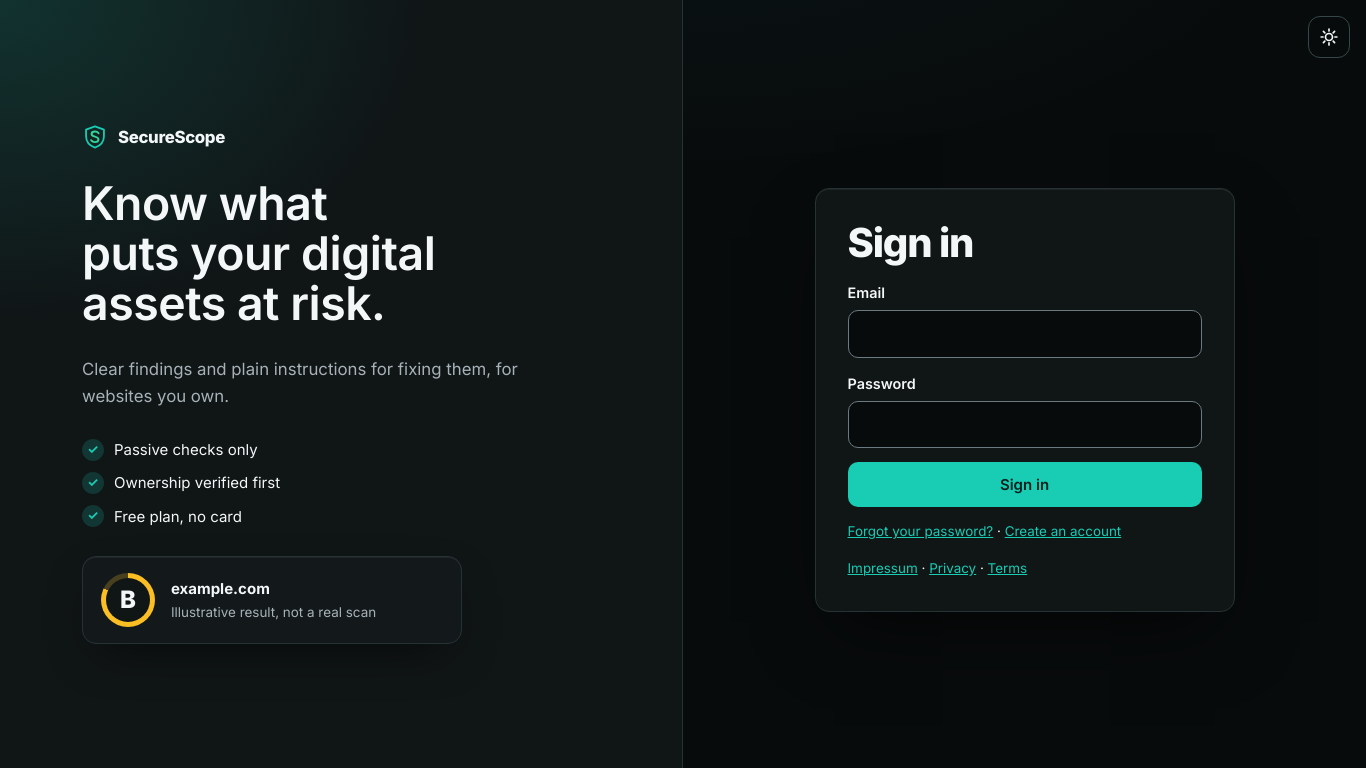
Test: Authentication › shows a generic server error on a failed login and does not enter the app
The width and height of the screenshot is (1366, 768).
Type "a@b.co" into the field labelled "Email".
click(1024, 334); type("a@b.co")  # box x1=848 y1=310 x2=1202 y2=358
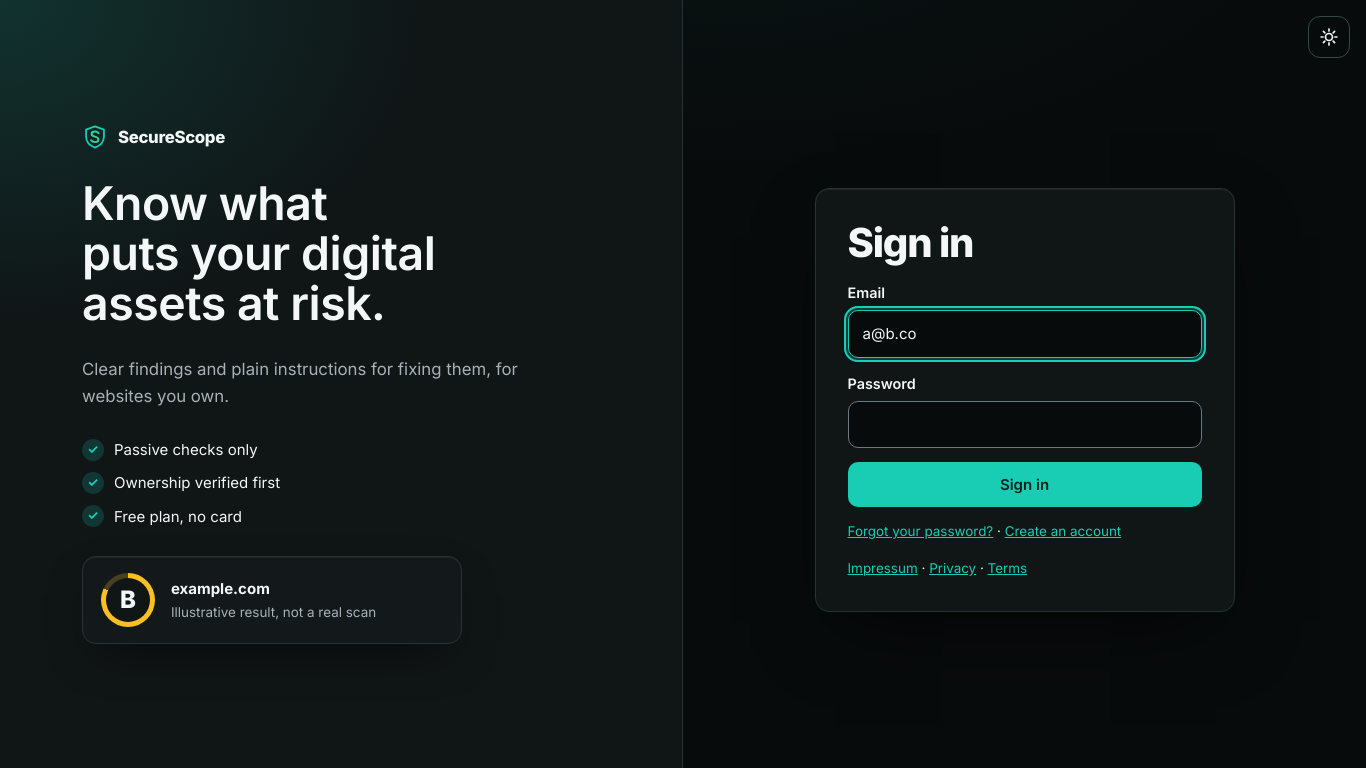
Type "wrong-password-123" into the password field labelled "Password".
click(1024, 425); type("wrong-password-123")  # box x1=848 y1=401 x2=1202 y2=448
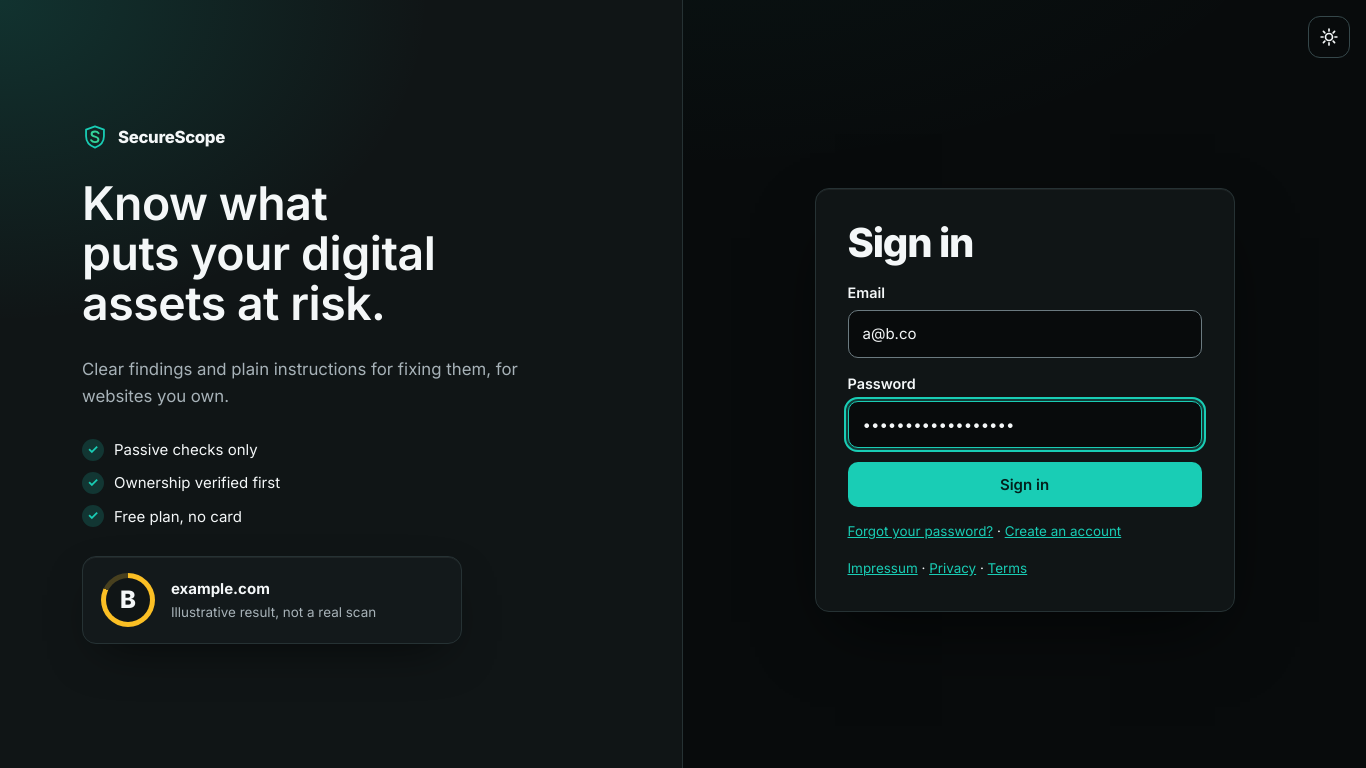
Click the button "Sign in".
click(1024, 485)  # box x1=848 y1=462 x2=1202 y2=507
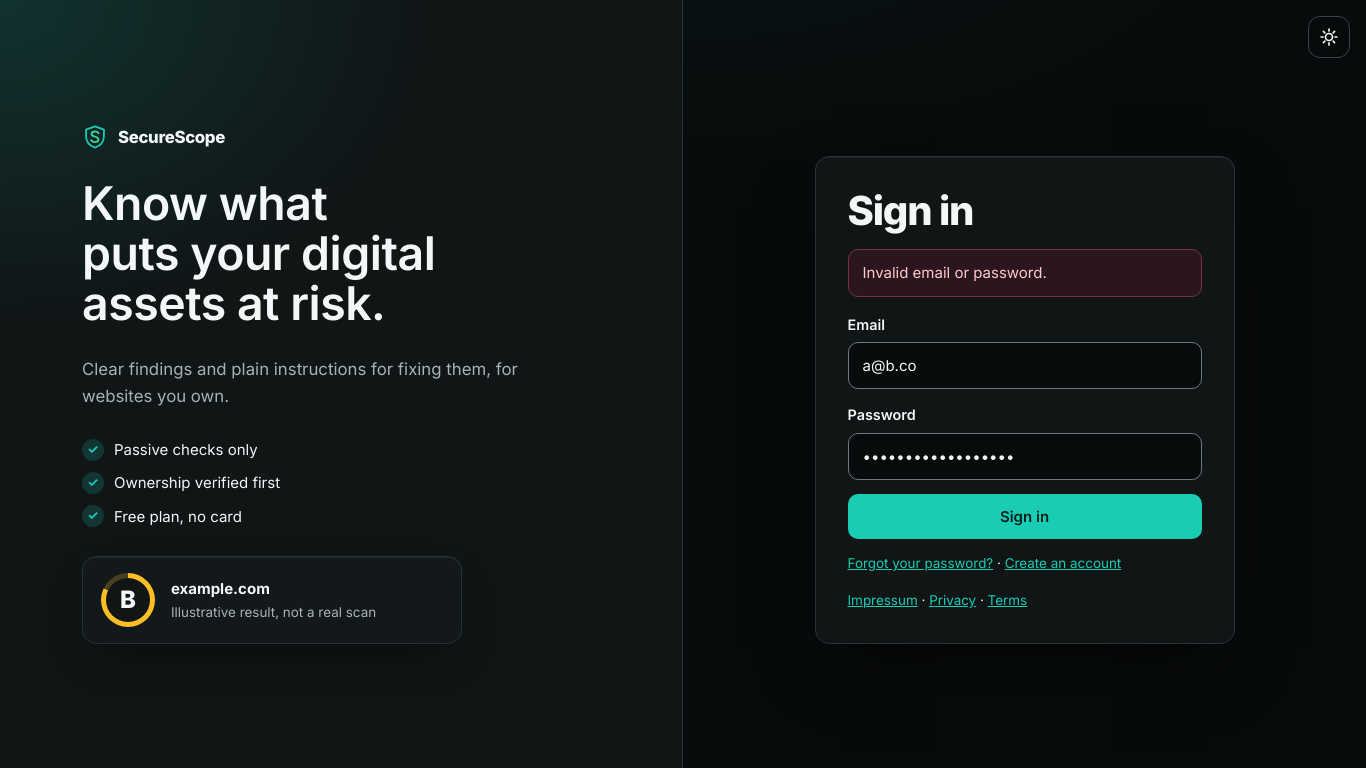
Result: the message reads "Invalid email or password." at x1=862 y1=263 x2=1047 y2=282
